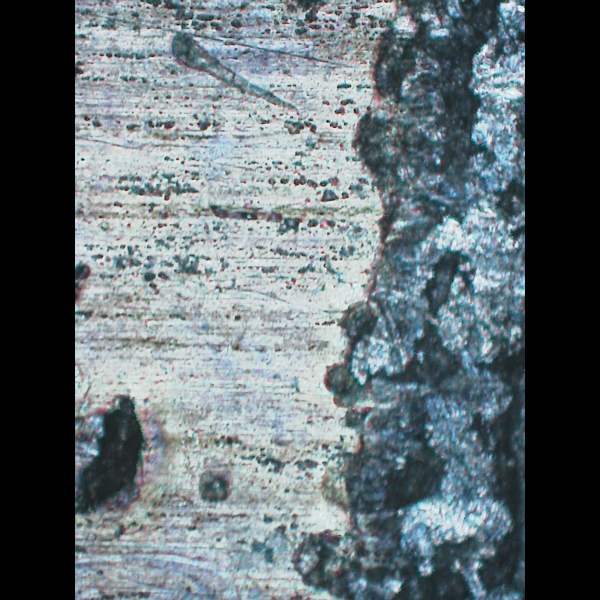d: (280, 0, 524, 597), (75, 384, 156, 550)
